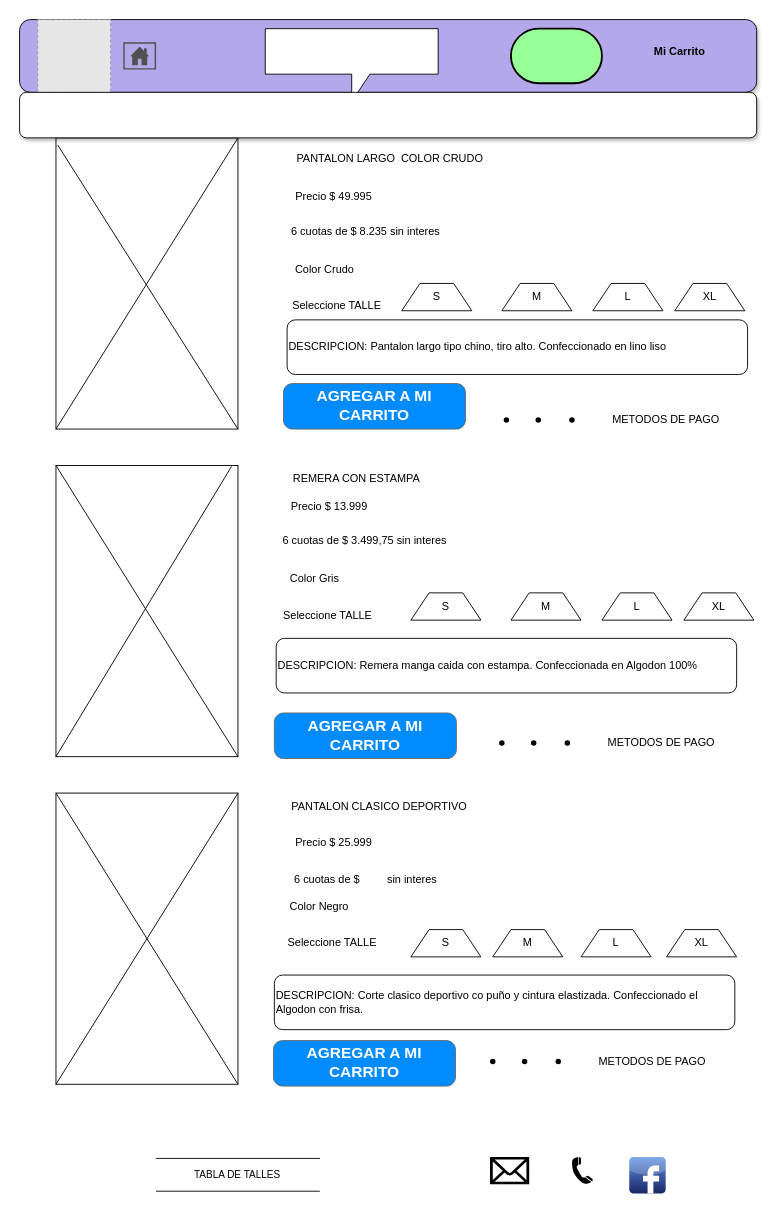
The diagram is 778 pixels wide and 1209 high, and some of its shapes have lost their labels. Grey dashed boxes stand in for pictures. Each missing label, with the centre of its shape:
Boton Arrepentimiento: point (556, 55)
COLECCION PRIMAVERA VERANO 2024: point (388, 116)
¿Que producto buscas?: point (351, 64)
